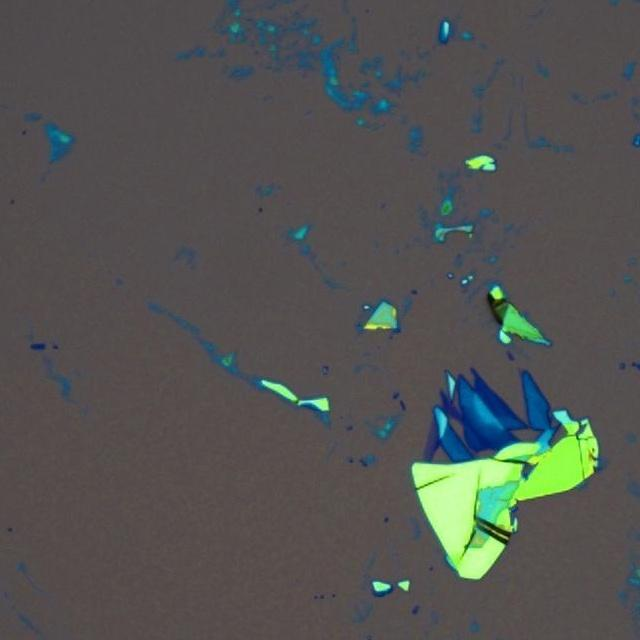monolayer-eWW4: (422, 415, 436, 462)
